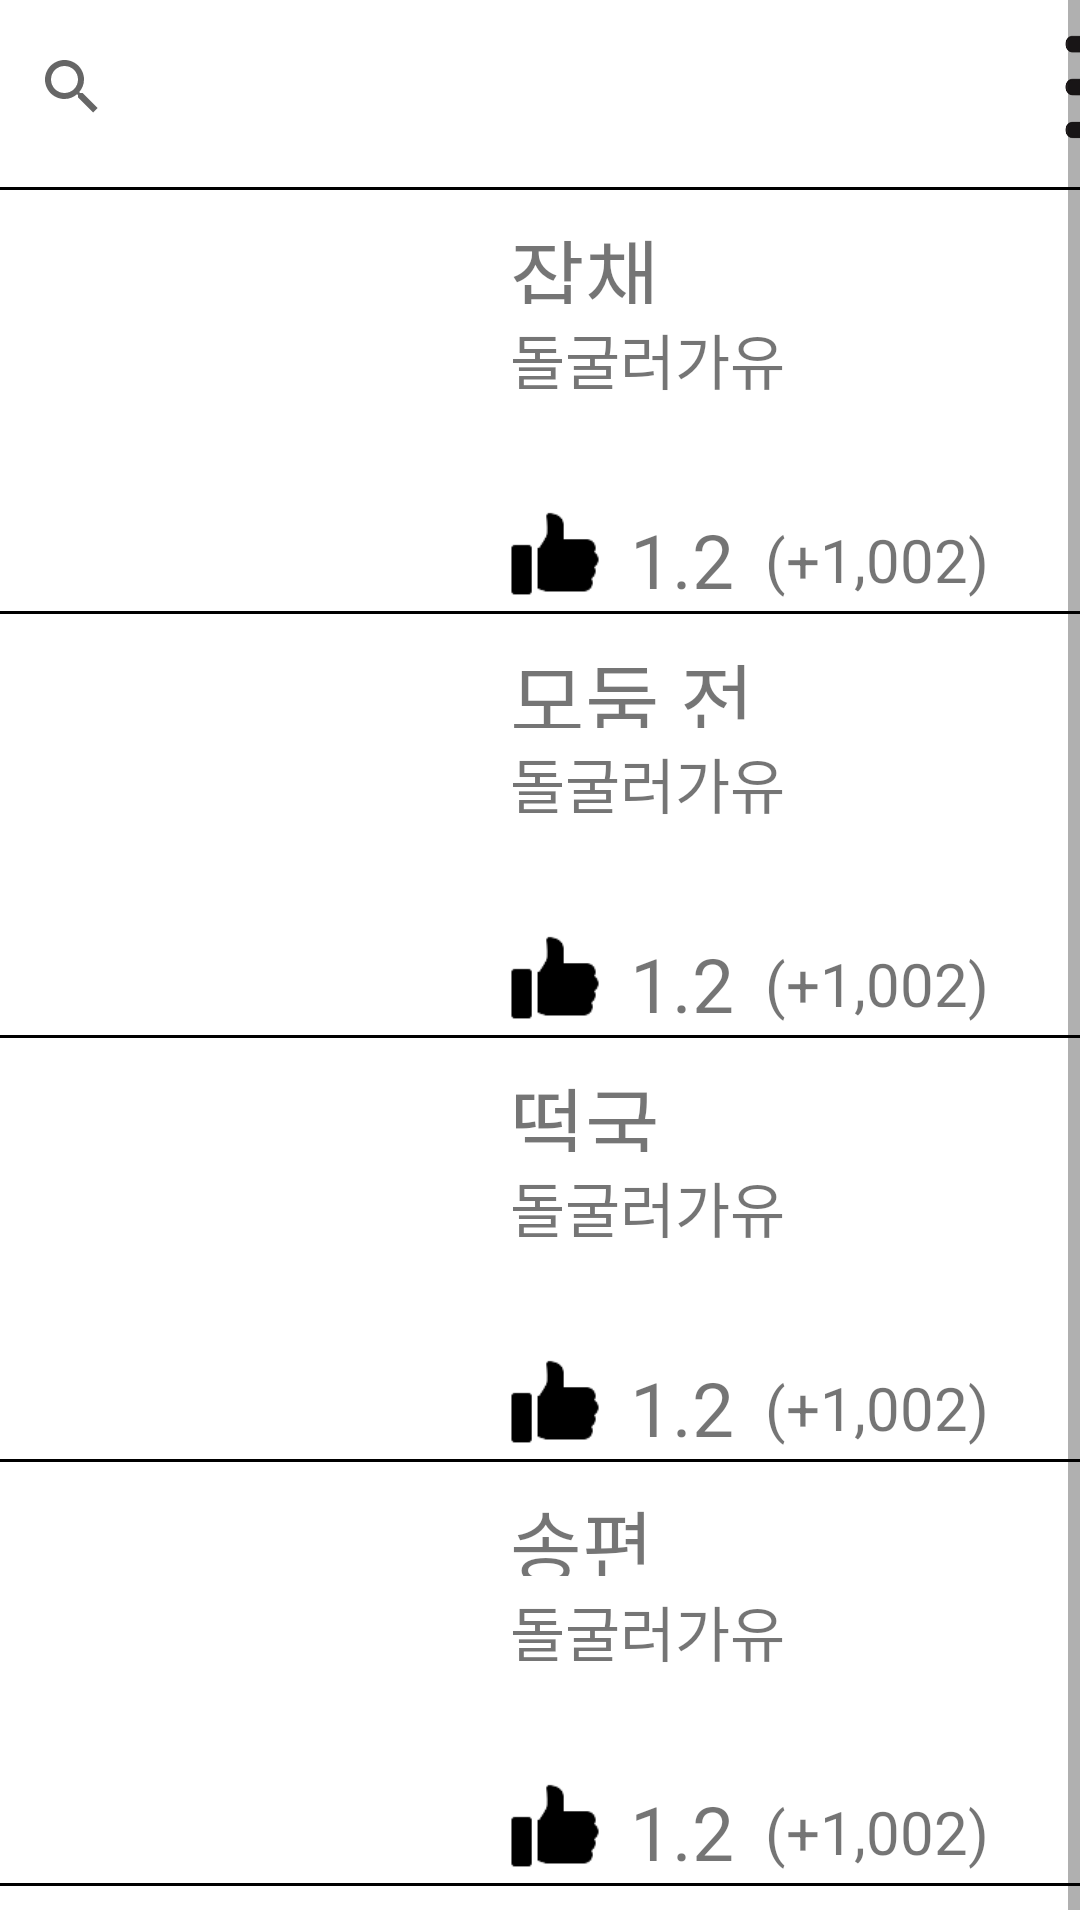

Icons on this 1080 × 1920 Android screen, each with its box as bbox(x1, y1, x2, y2):
like: bbox(511, 513, 599, 595), bbox(511, 937, 599, 1019), bbox(511, 1361, 599, 1443), bbox(511, 1785, 599, 1867)
